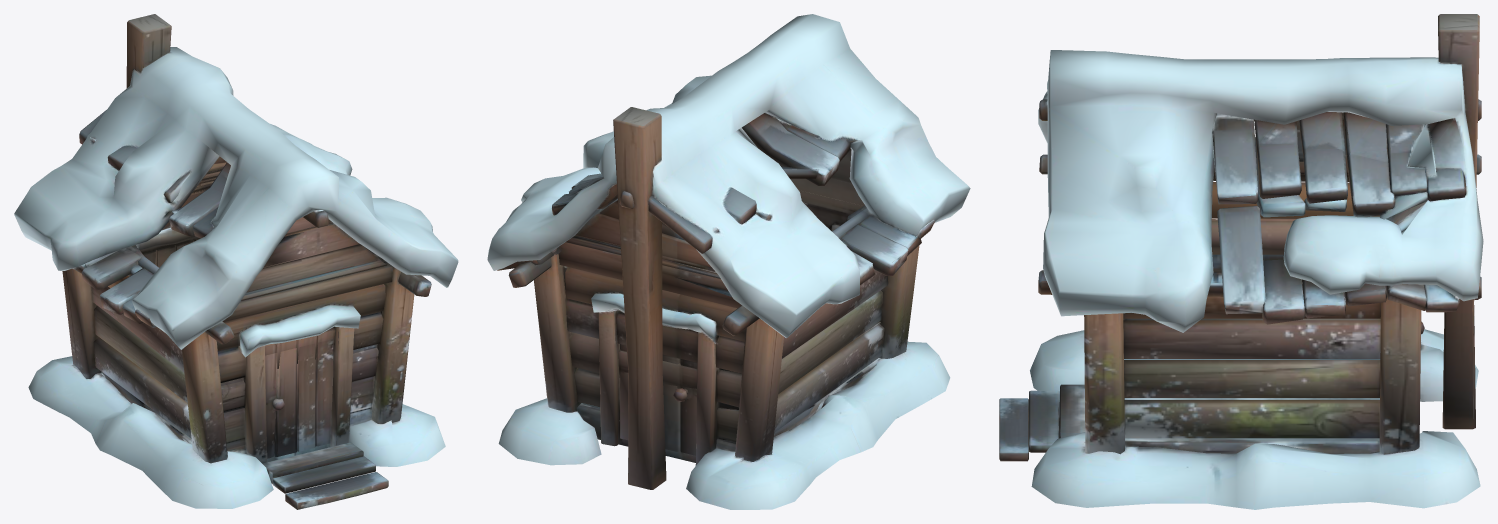
File: selected.glb
3 renders of one model, left to right at view 1: azimuth 30°, elevation 25°; view 2: azimuth 150°, elevation 25°; view 3: azimuth 270°, elevation 25°, orthographic. The views are drawn at different scales.
Parts seen in each view (by area): view 1: tripo_node_a16b8b8b-3c6b-49fd-a7ca-a1fb9c7fb2f5; view 2: tripo_node_a16b8b8b-3c6b-49fd-a7ca-a1fb9c7fb2f5; view 3: tripo_node_a16b8b8b-3c6b-49fd-a7ca-a1fb9c7fb2f5.
Boxes of the visible parts, box(x1,y1,x2,y2) form: tripo_node_a16b8b8b-3c6b-49fd-a7ca-a1fb9c7fb2f5: box(14, 14, 458, 509); tripo_node_a16b8b8b-3c6b-49fd-a7ca-a1fb9c7fb2f5: box(487, 14, 970, 509); tripo_node_a16b8b8b-3c6b-49fd-a7ca-a1fb9c7fb2f5: box(999, 14, 1483, 509).
Size of the model in its own units: 0.8965 by 0.9355 by 0.998.
1 material, 1 textured.
